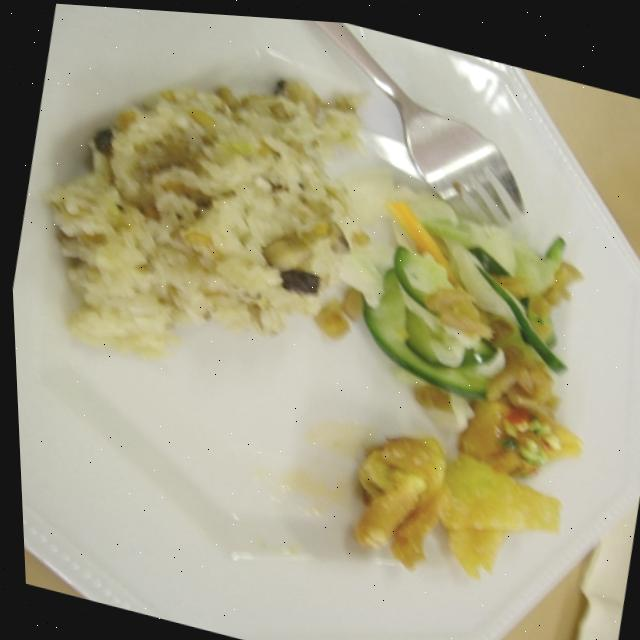米饭主食: (0, 0, 458, 472)
